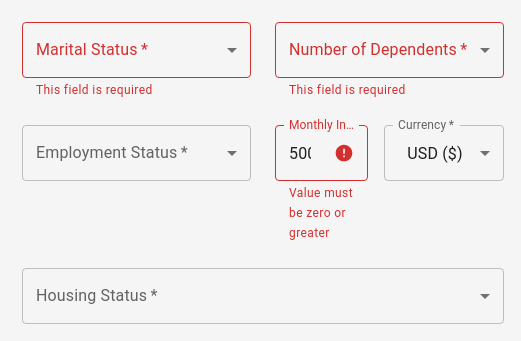
Step2FamilyFinancial Component › renders marital status dropdown with all options
Click the dropdown named "marital status".
click(136, 50)  # box [22,22,251,78]
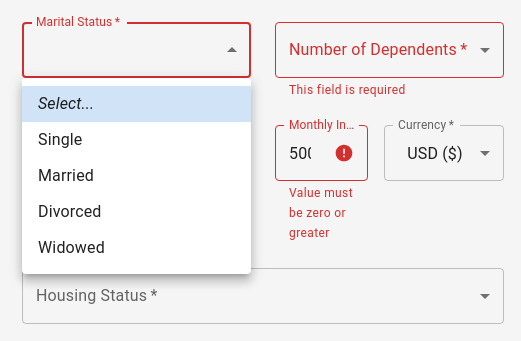
Expected: the option "Single" is shown, [38,130,82,149]
Expected: the option "Married" is shown, [38,166,94,185]
Expected: the option "Divorced" is shown, [38,202,102,221]
